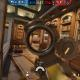Friend_label: (46, 36, 51, 39)
